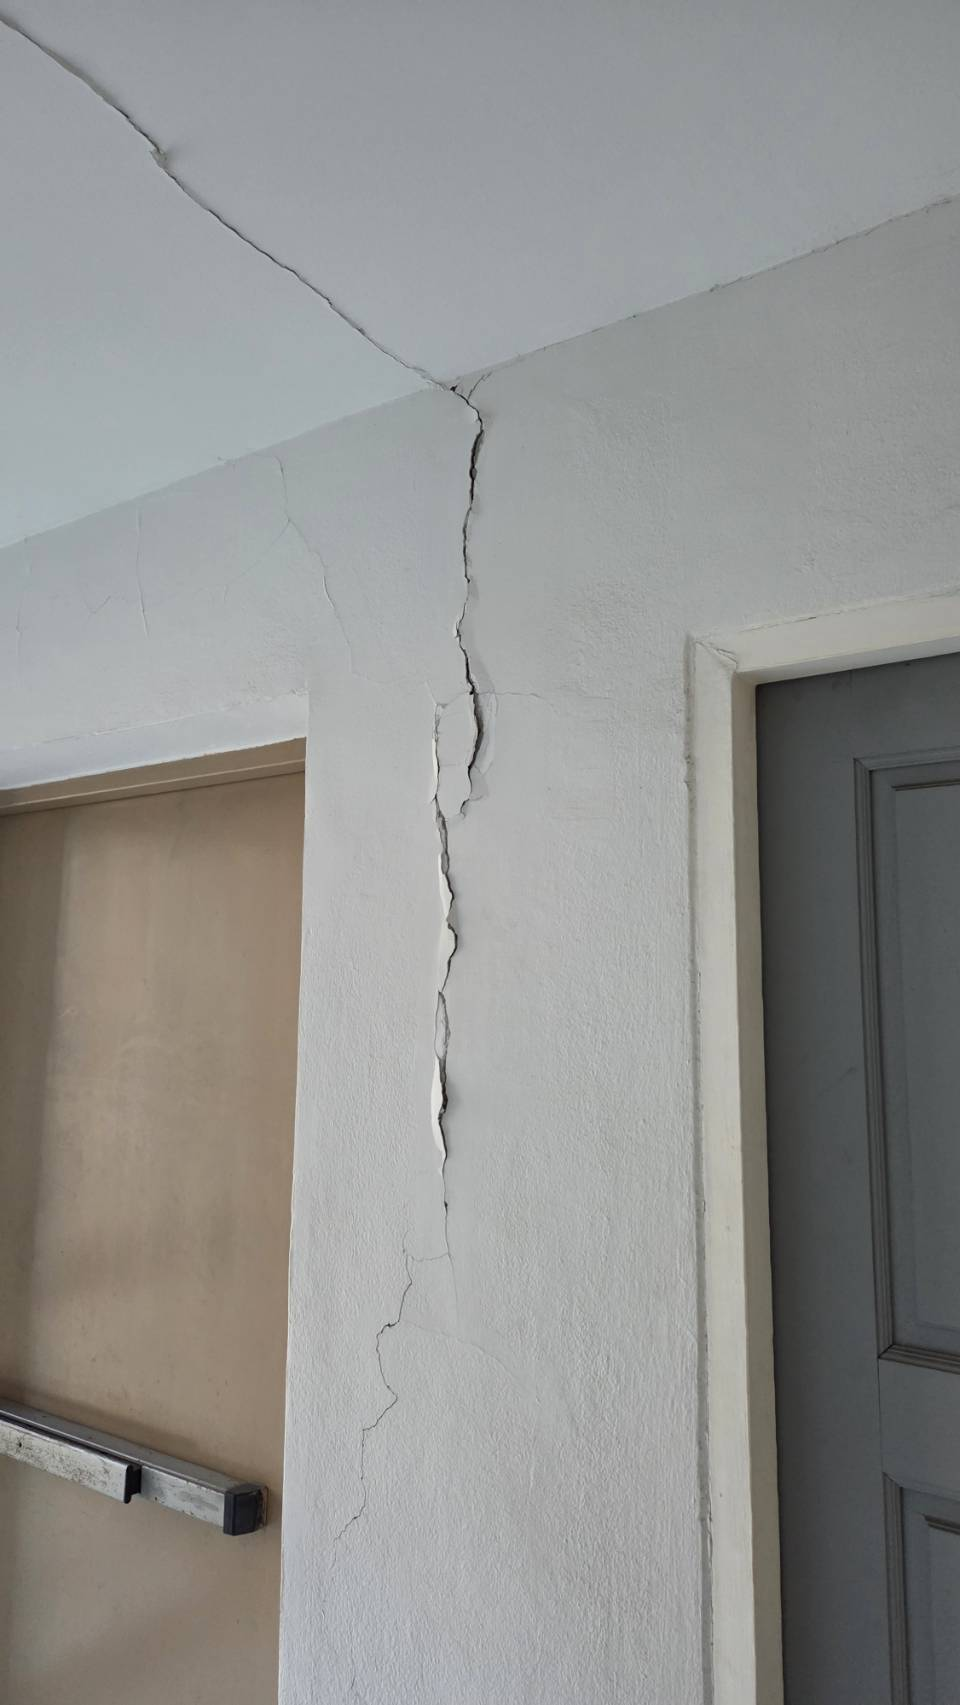Medium: (383, 412, 594, 1239)
